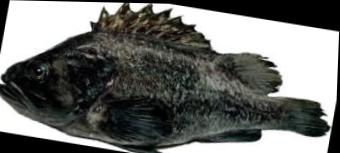fish: (0, 2, 331, 153)
